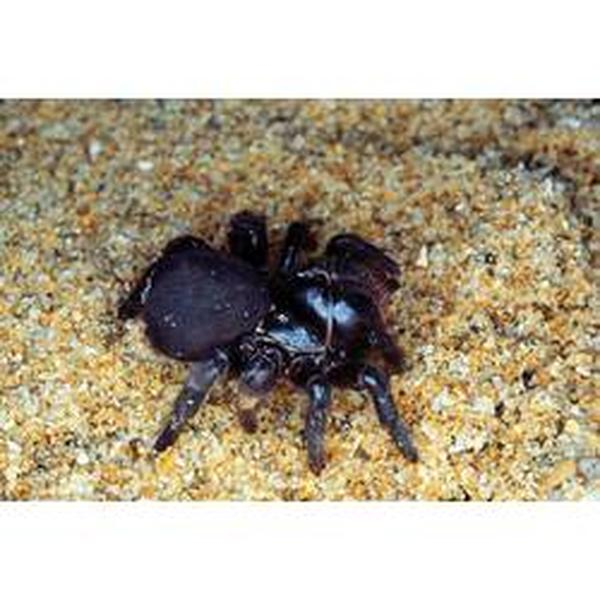Red Headed Mouse Spider: (118, 209, 419, 473)
